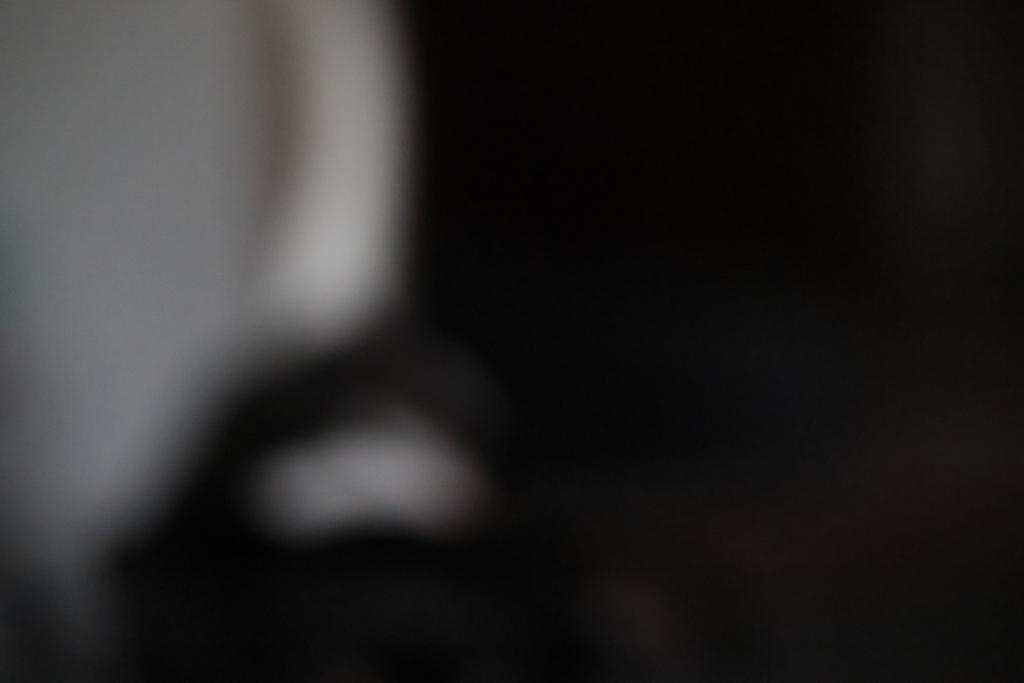Dog: (55, 0, 759, 683)
